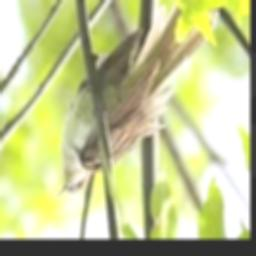Cuckoo: (57, 5, 219, 199)
